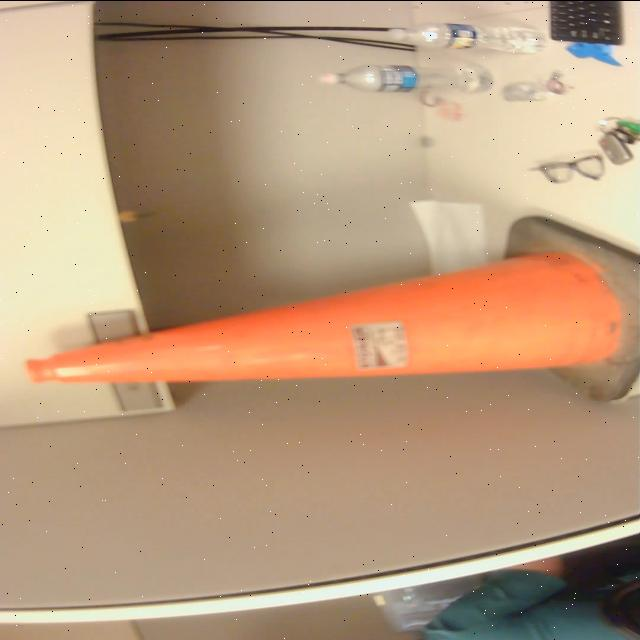traffic cone: (17, 210, 640, 407)
